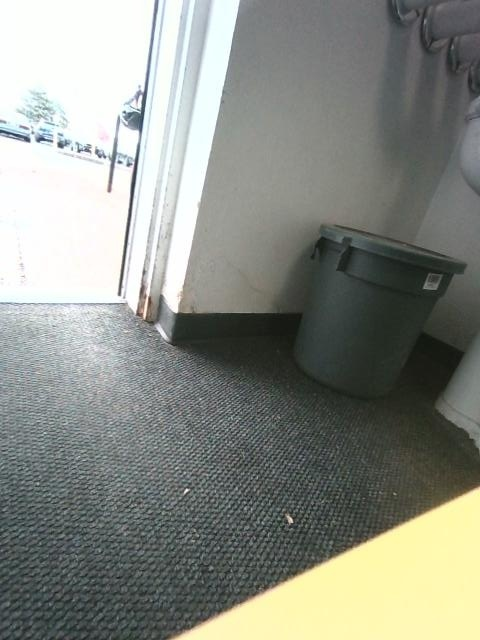ball: (294, 225, 465, 397)
